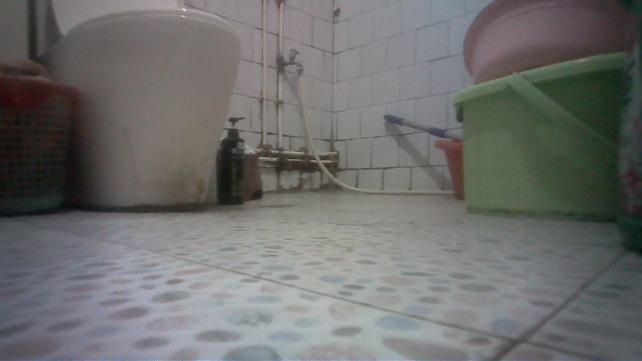toilet: (46, 6, 251, 210)
